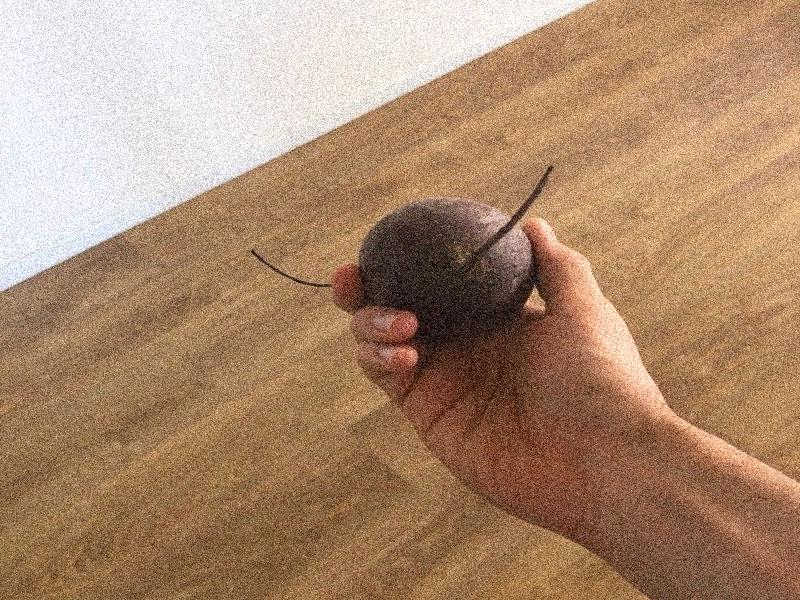Beet: (249, 166, 552, 338)
